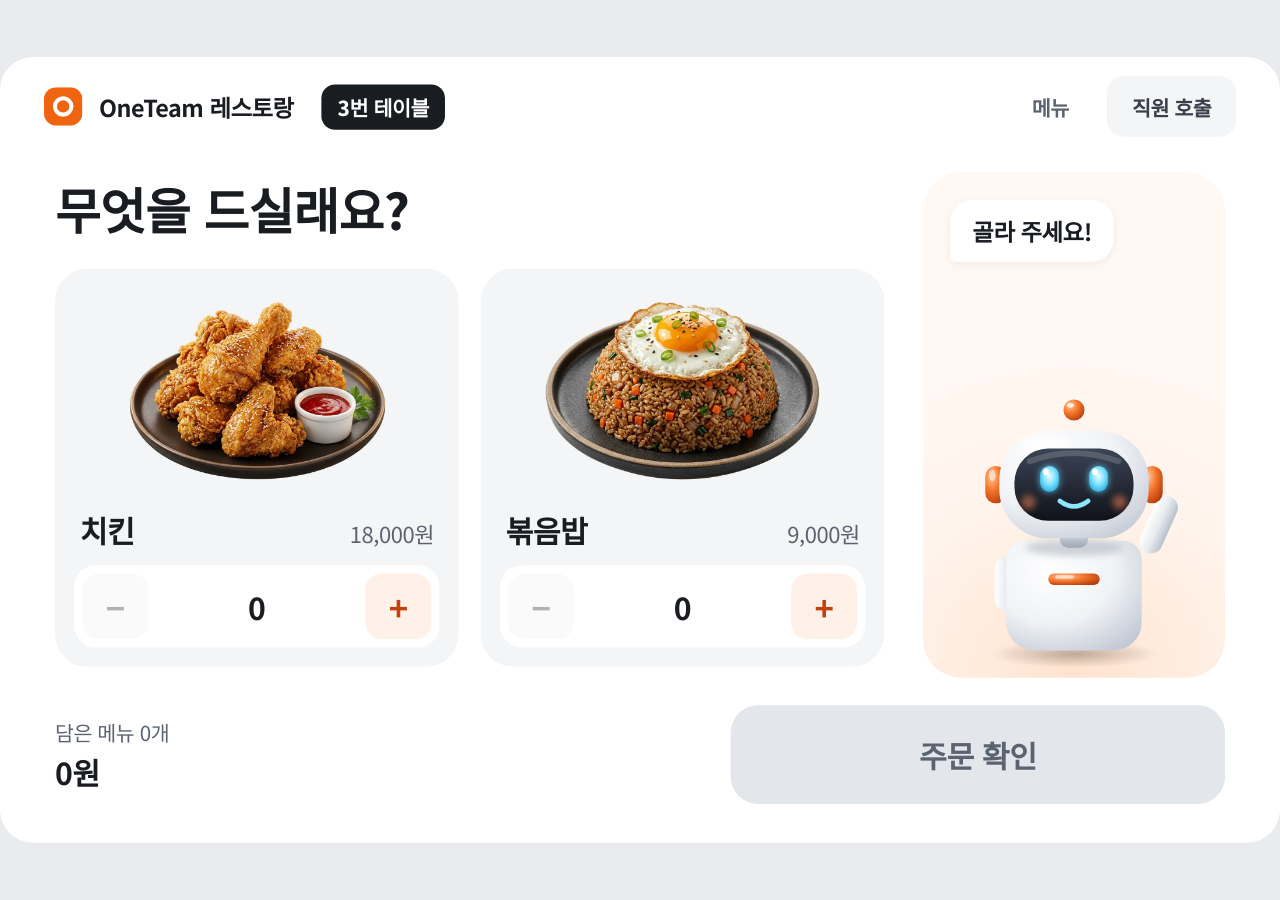
Scenario: 테이블 태블릿 흐름 › T1: 담기 전에는 주문 확인이 꺼져 있고, 담으면 개수와 합계가 바뀐다
expect the text "3번 테이블" is shown: met, box [321,84,445,129]
expect the button "주문 확인" is disabled: met, box [731,705,1225,804]
Step 1. Click the button named "치킨 더하기" → (398, 607), box [365,574,431,640]
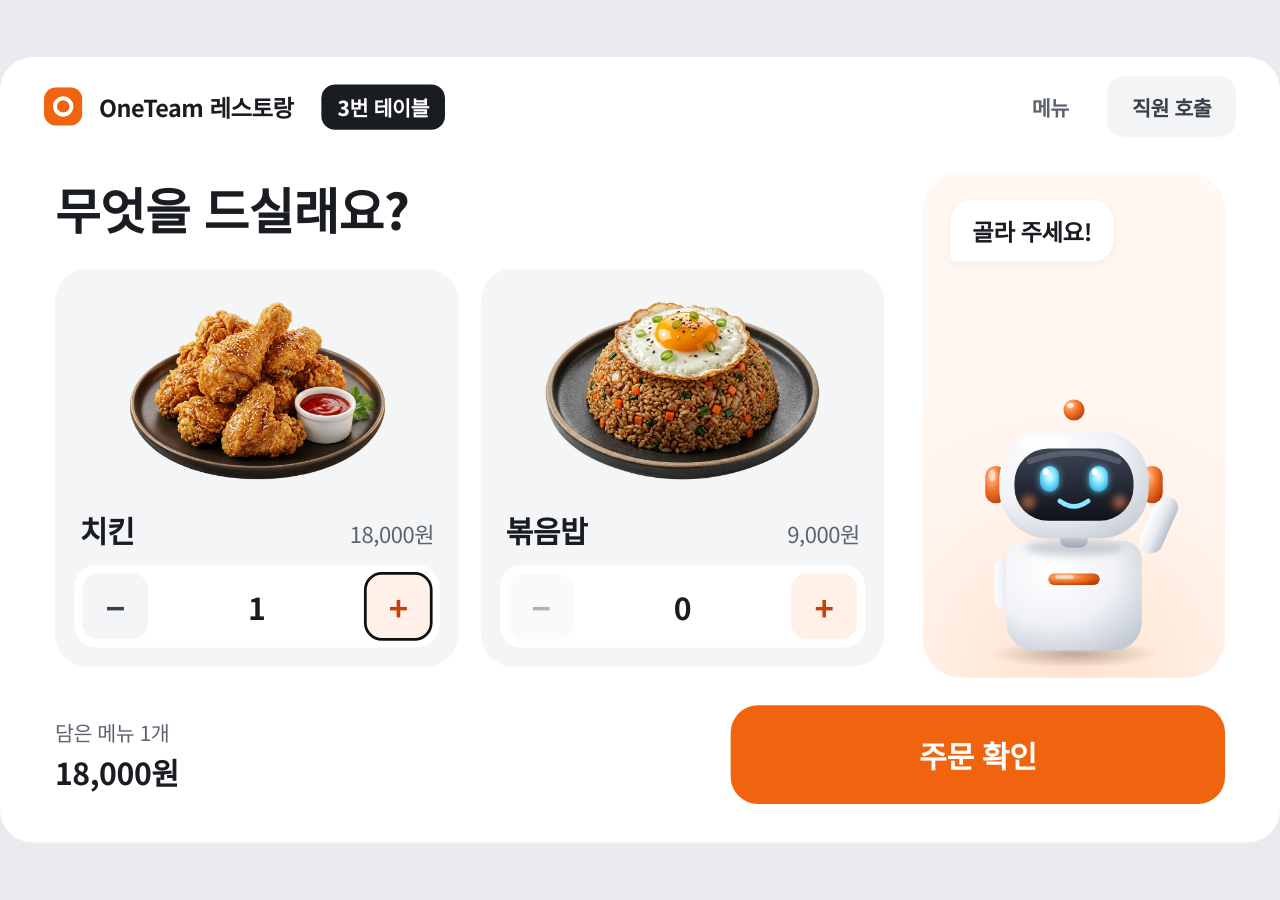
Step 2. Click the button named "볶음밥 더하기" → (824, 607), box [791,574,857,640]
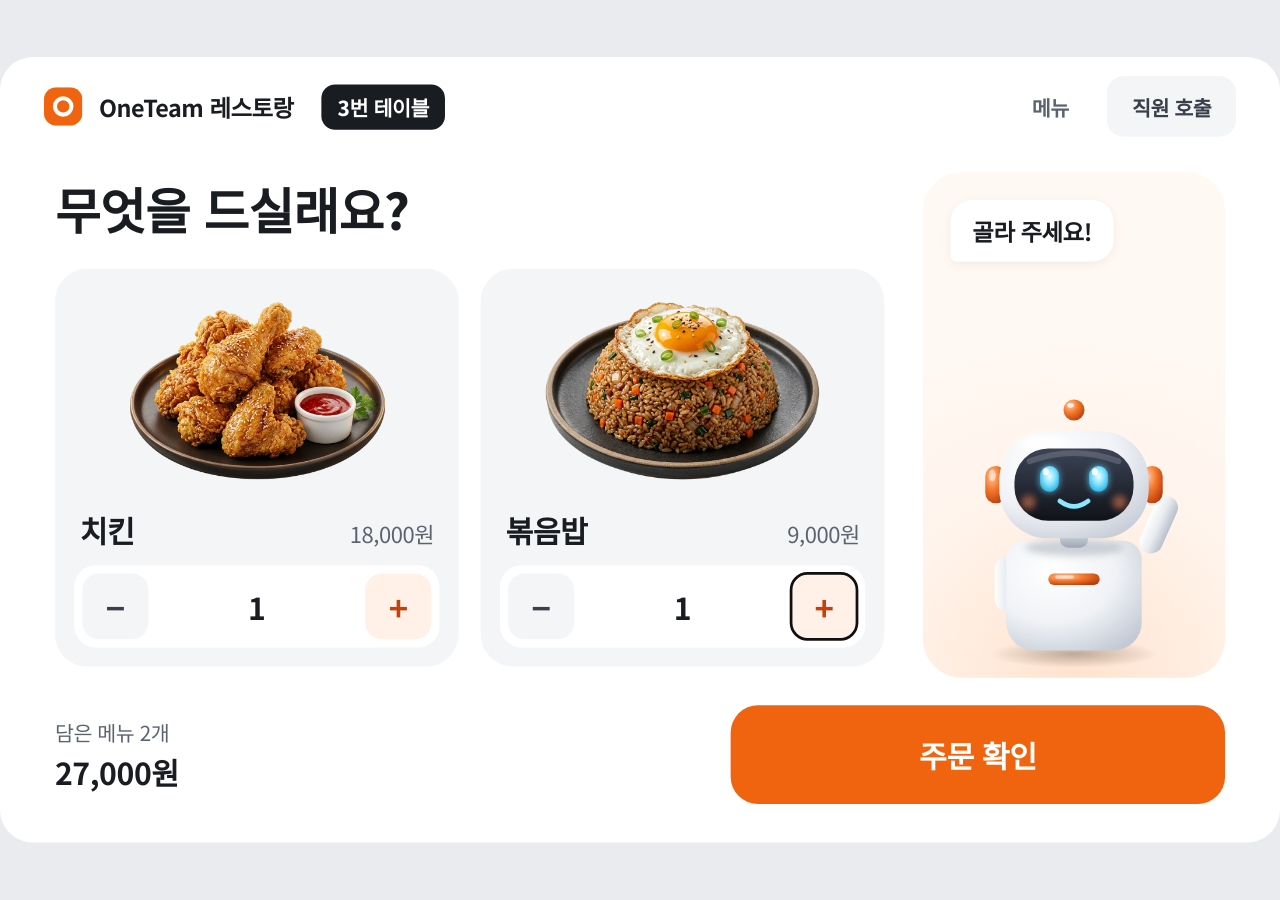
Step 3. Click the button named "볶음밥 더하기" → (824, 607), box [791,574,857,640]
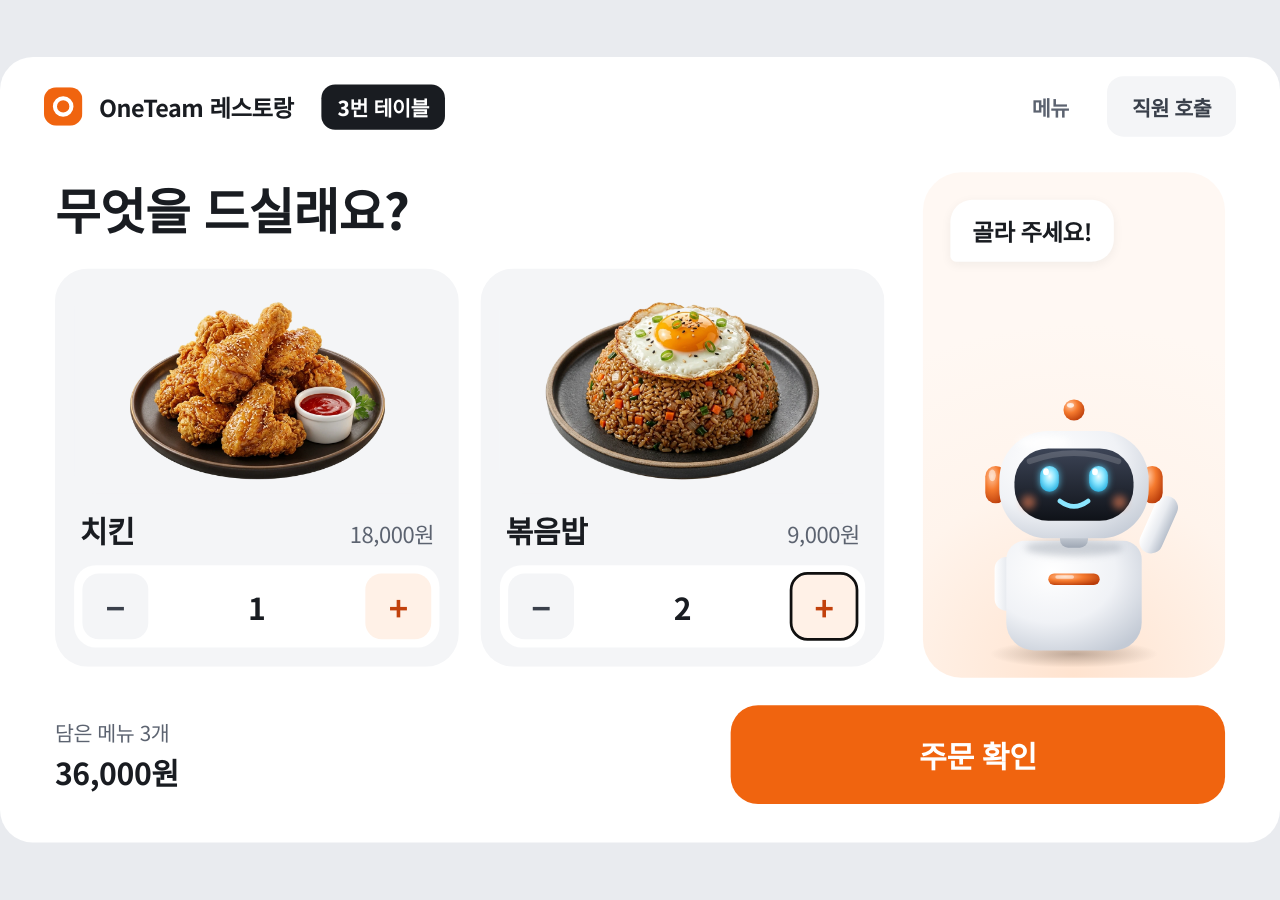
expect the text "담은 메뉴 3개" is shown: met, box [55,717,179,746]
expect the text "36,000원" is shown: met, box [55,749,179,793]
Step 4. Click the button named "볶음밥 빼기" → (541, 607), box [508,574,574,640]
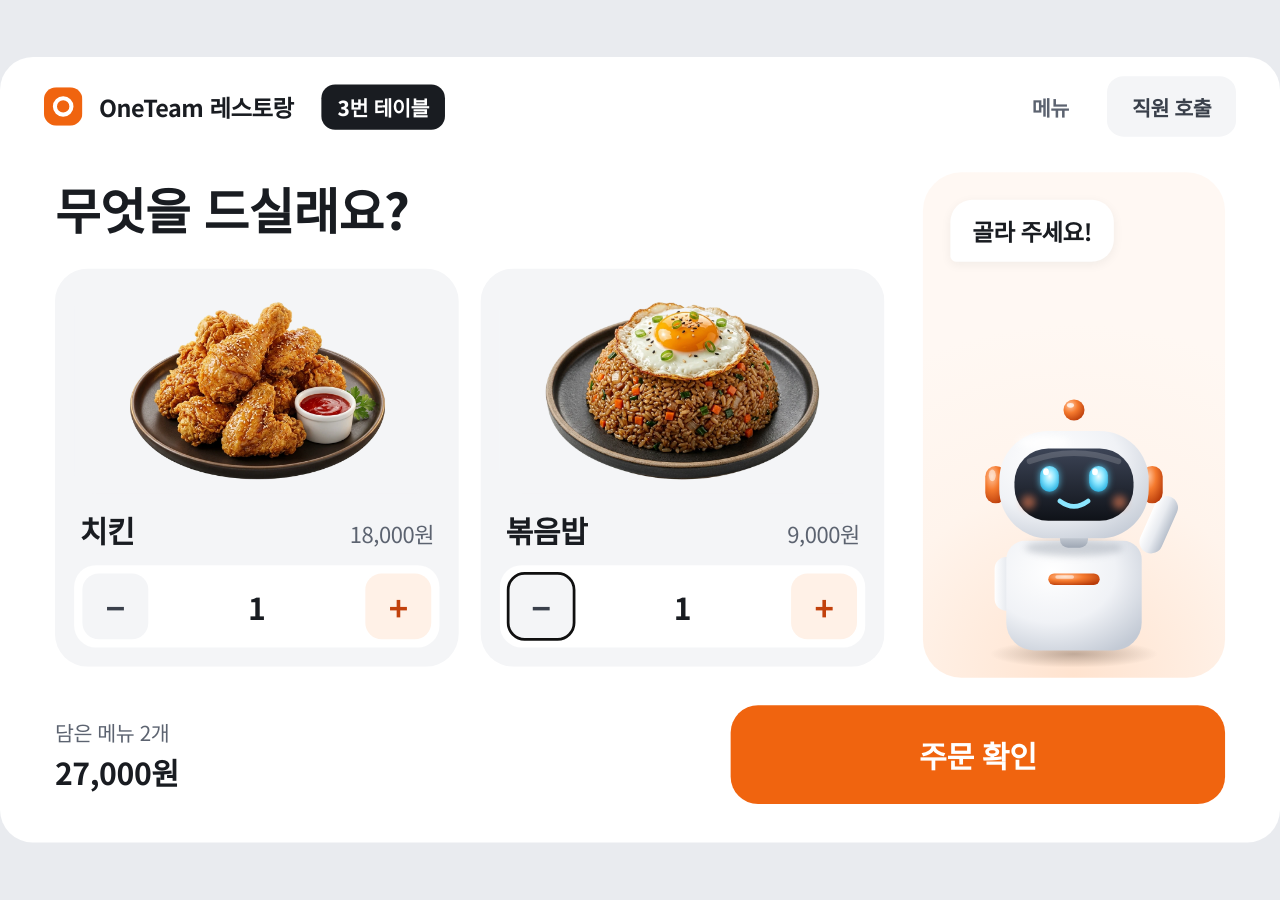
expect the text "담은 메뉴 2개" is shown: met, box [55,717,179,746]
